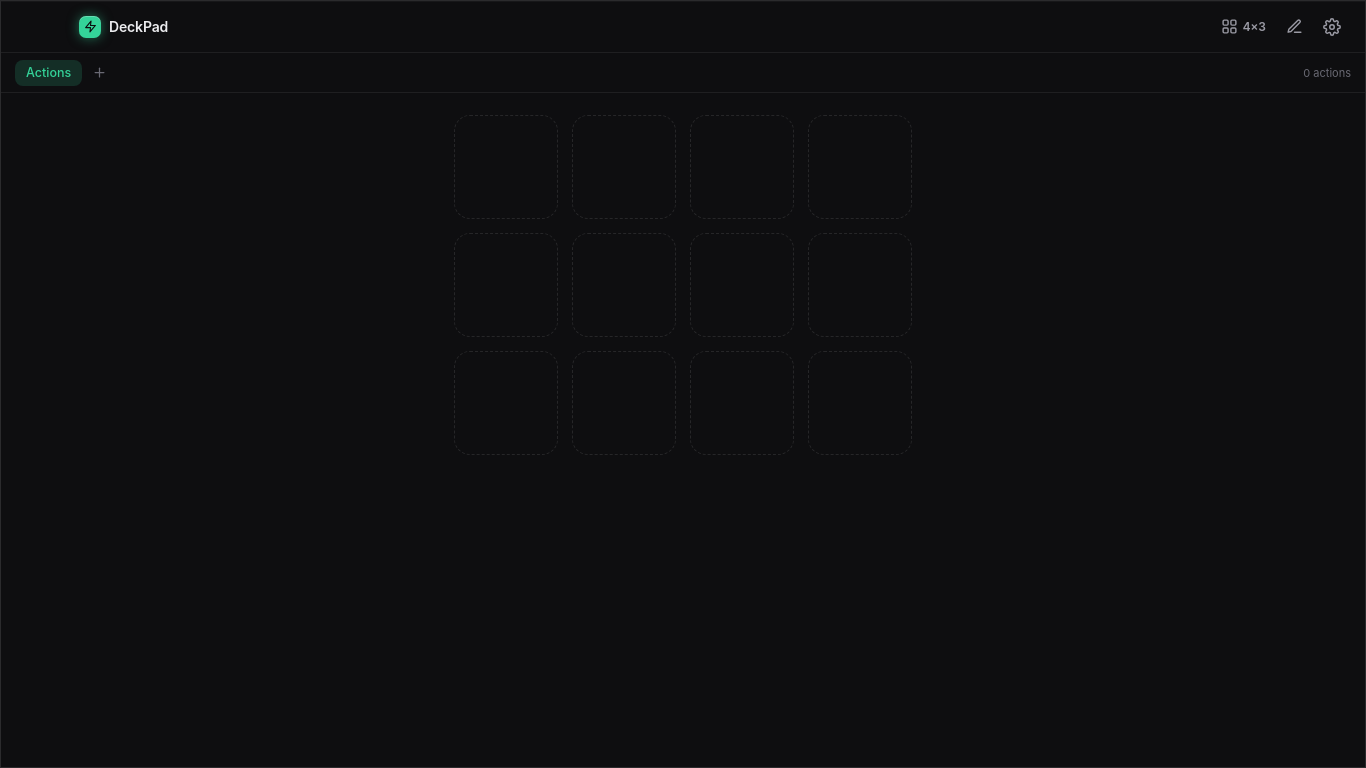
Test: App — save failure surfaces a toast › shows an info toast instead of an unhandled rejection when saveConfig rejects
Expected: the text "Actions" is shown, [26,65,71,80]
What coordinates should you click on to do the following:
click the button titled "New group"
I would click on:
 (99, 72)
Its box is [86,60,112,86].
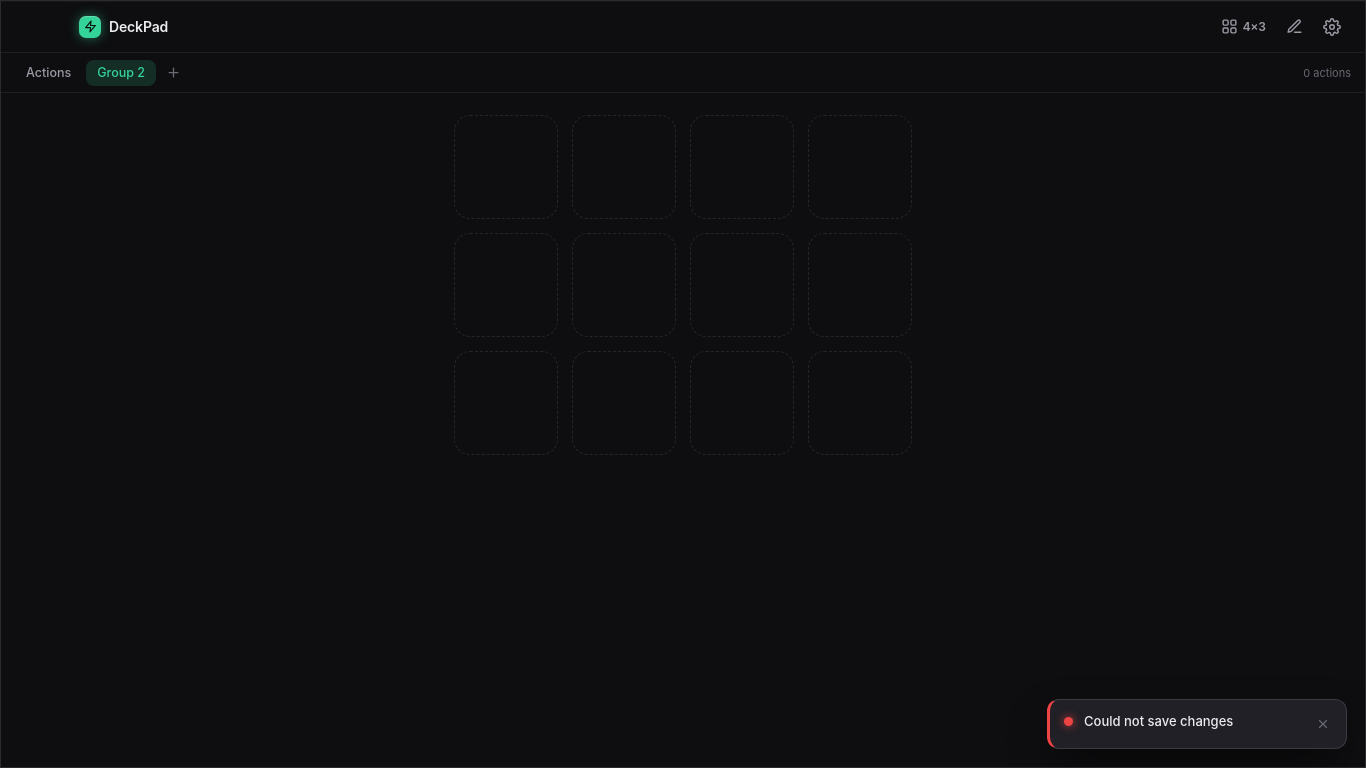
Now the message "Could not save changes" is shown, box [1047,699,1347,749]
